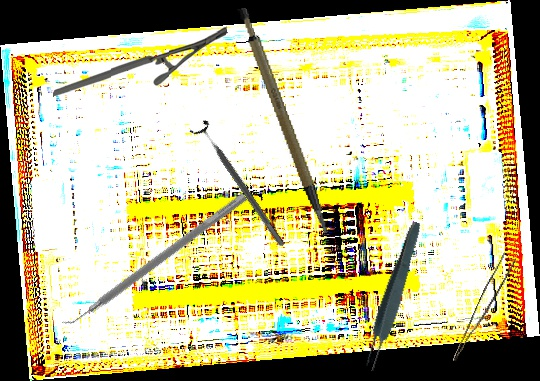Fixation Ring: (188, 118, 292, 252)
Needle Holder: (51, 26, 229, 97)
Scalpel Handle: (234, 0, 329, 242)
Spatula Surgical: (58, 184, 248, 334)
Tissue Forceps: (359, 219, 426, 373), (452, 250, 517, 368)
